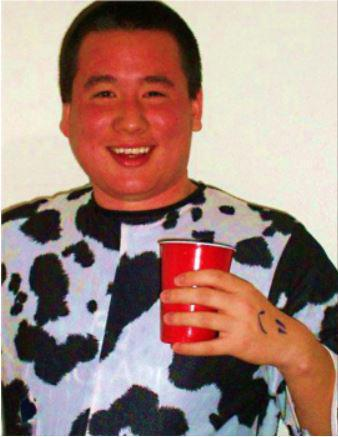Drunk: (77, 36, 189, 192)
